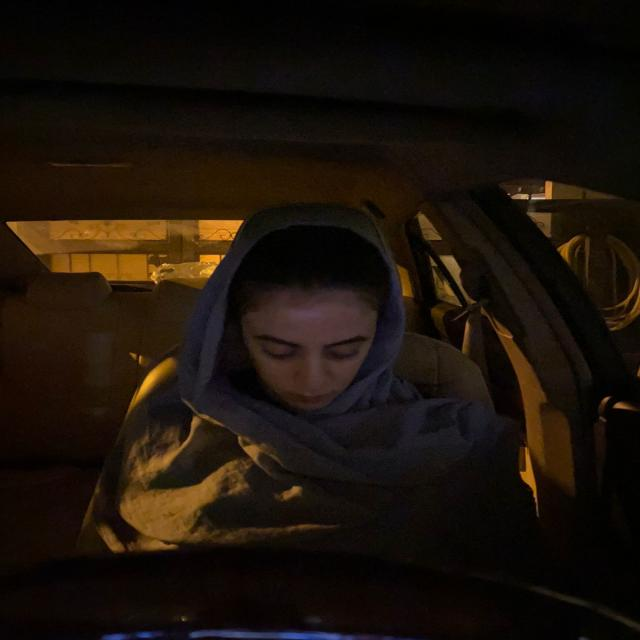drowsy: (219, 211, 402, 431)
